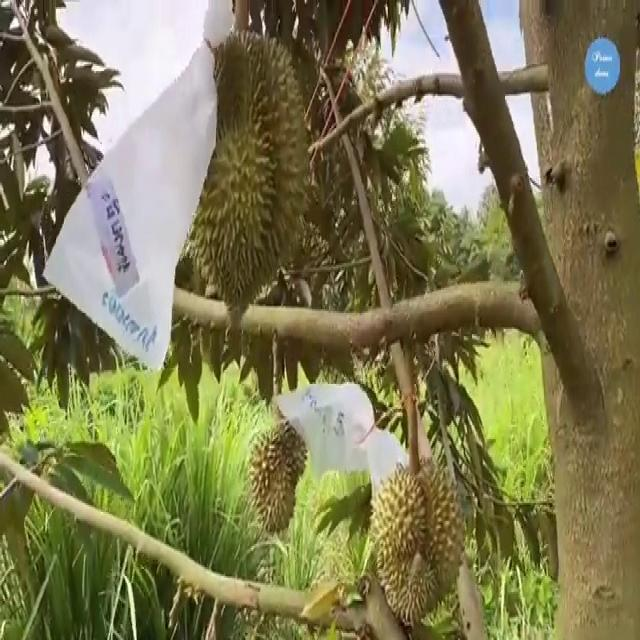durian: (176, 23, 313, 325), (364, 452, 470, 627), (242, 408, 312, 536)
